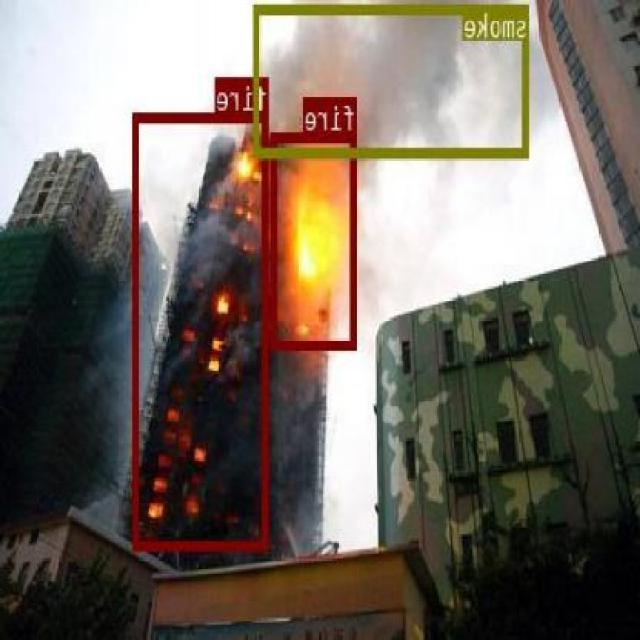Fire: (133, 110, 270, 550), (273, 131, 358, 347)
Smoke: (256, 2, 530, 155)
